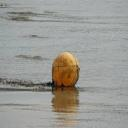yellow: (52, 52, 80, 87)
